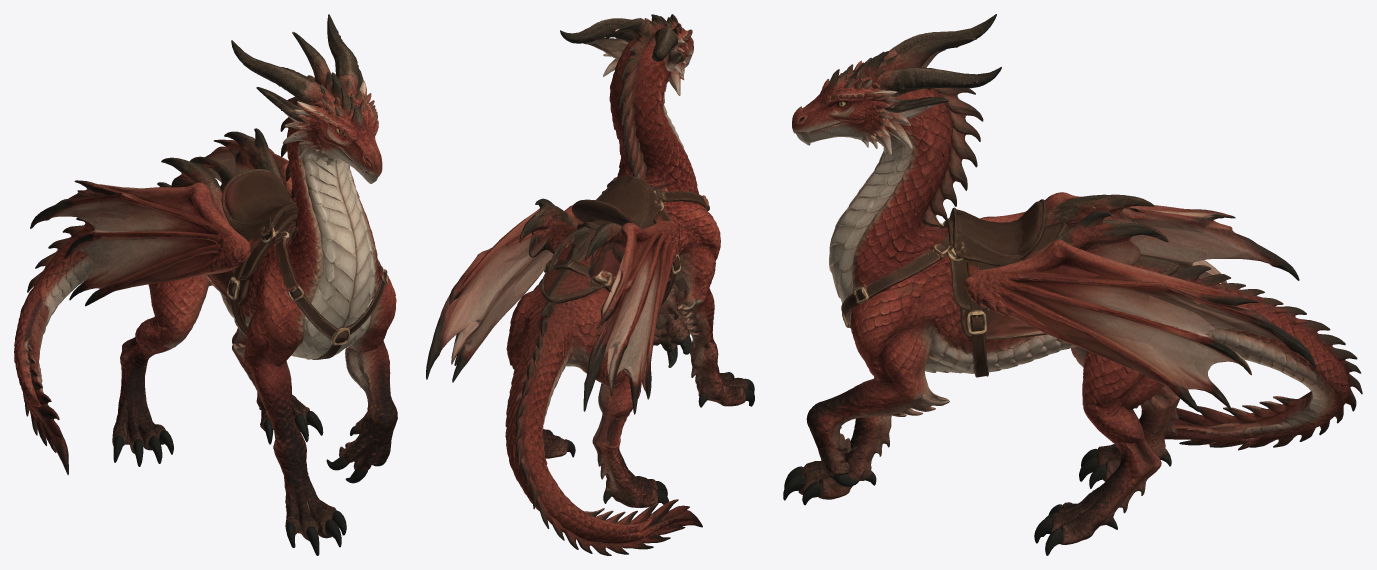
The model's file is dragon.glb.
3 renders of one model, left to right at view 1: azimuth 30°, elevation 25°; view 2: azimuth 150°, elevation 25°; view 3: azimuth 270°, elevation 25°, orthographic. The views are drawn at different scales.
Size of the model in its own units: 0.9688 by 1.8 by 1.9.
Materials: 1 (1 with a texture image).
